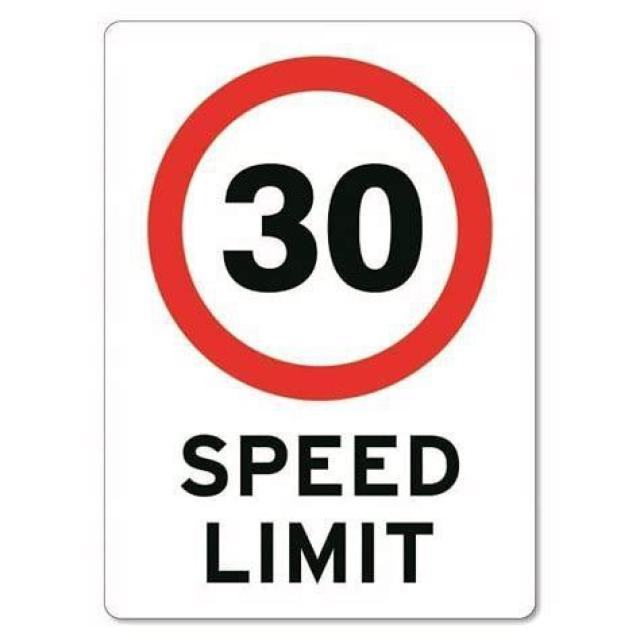speedlimit_30: (146, 56, 494, 396)
